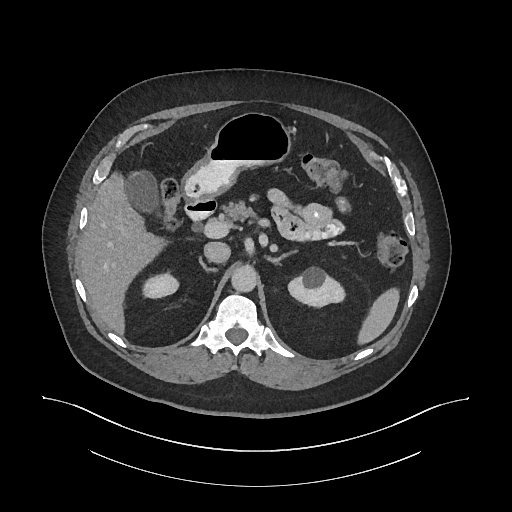Lesion: (298, 263, 328, 292)
